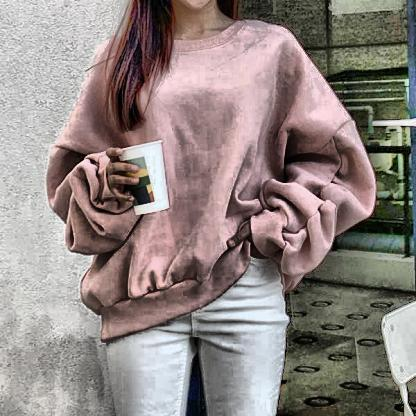sweater: (43, 19, 379, 344)
trousers: (105, 255, 295, 416)
